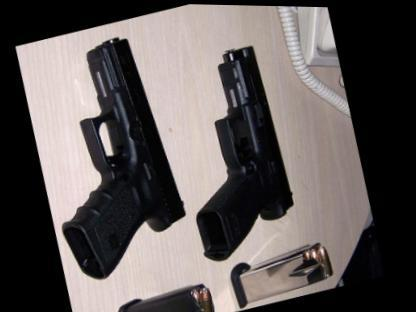pistol: (21, 26, 208, 284), (154, 36, 314, 263)
